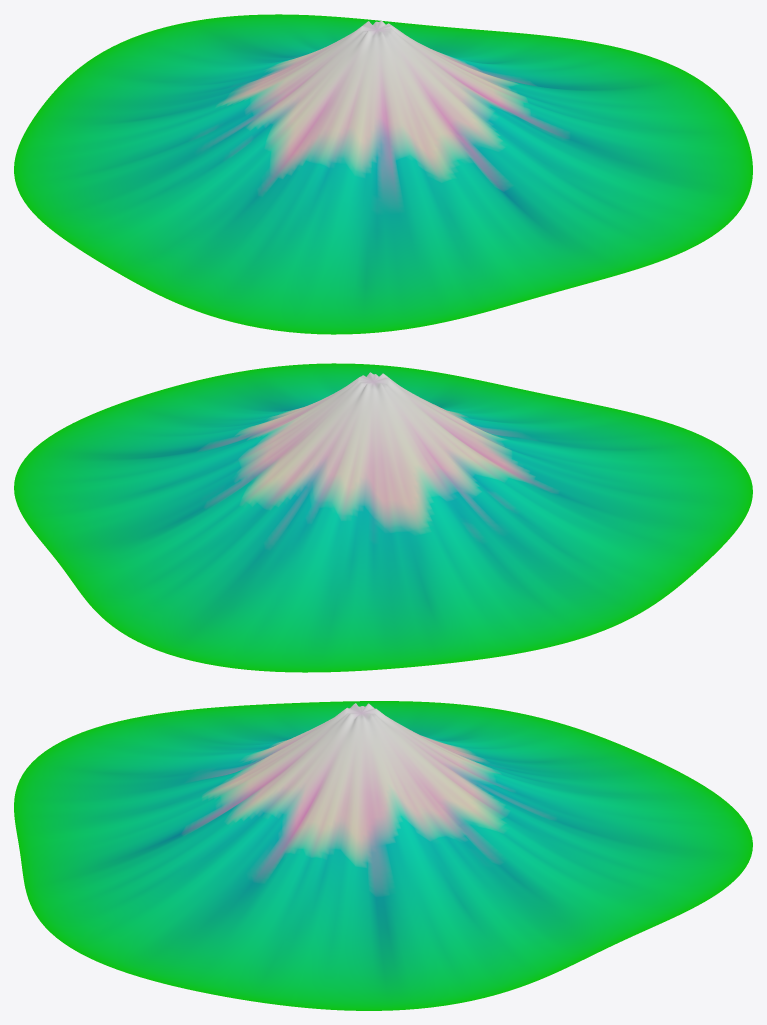
The model's file is sakura-fuji.glb.
3 views of the same model, one above another, from view 1: azimuth 30°, elevation 25°; view 2: azimuth 150°, elevation 25°; view 3: azimuth 270°, elevation 25° (orthographic). The views are drawn at different scales.
Visible parts, largest first — view 1: fuji; view 2: fuji; view 3: fuji.
Part boxes in pixels (x1,y1,x2,y2): fuji: [14, 14, 752, 334]; fuji: [14, 363, 752, 672]; fuji: [14, 701, 752, 1010].
Bounding box in the file's own units: 4.8 × 1.02 × 4.84.
